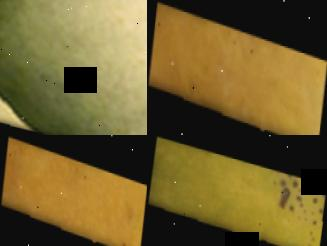PartiallyRipe: (147, 135, 327, 246)
Ripe: (147, 0, 327, 135), (0, 135, 147, 246)
Unripe: (0, 0, 147, 135)
